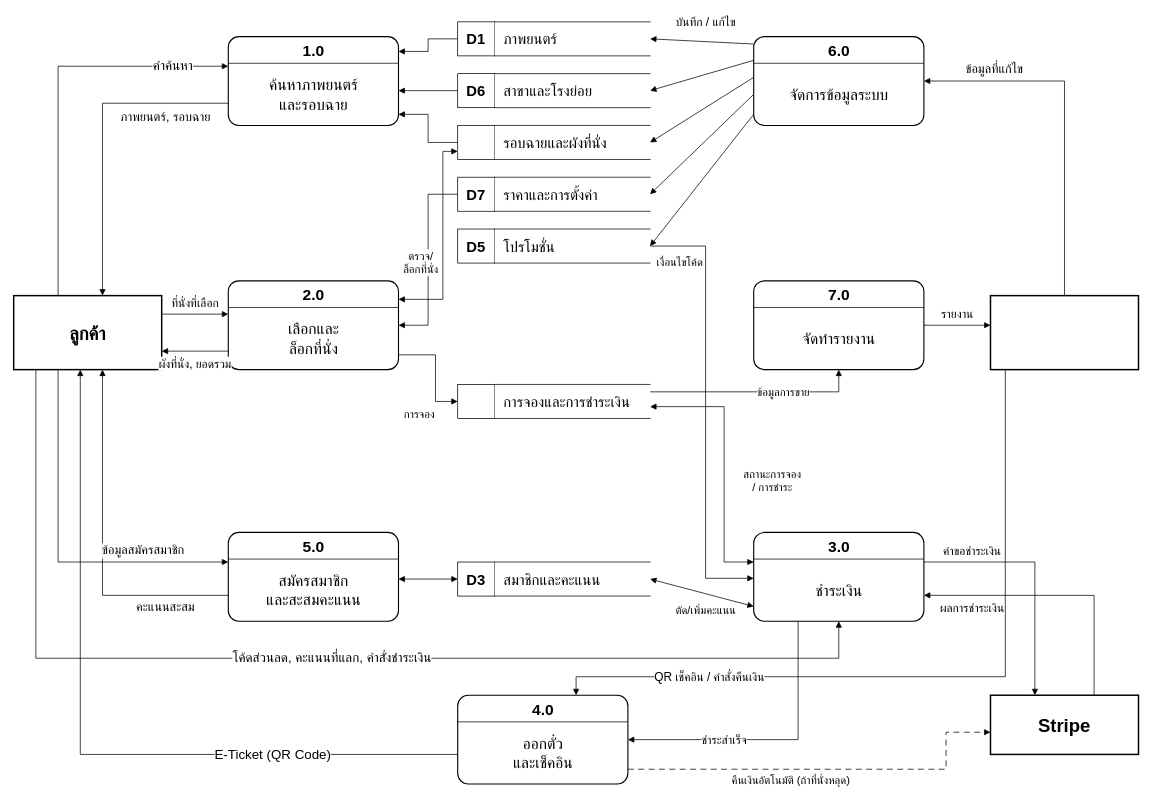
The diagram is 1151 pixels wide and 801 high, and some of its shapes have lost their labels. The centre of each missing label's shape, as x and y in pixels:
"D2" belongs at point 476,142.
"D4" belongs at point 476,401.
"ผู้ดูแลระบบ" belongs at point 1064,332.
